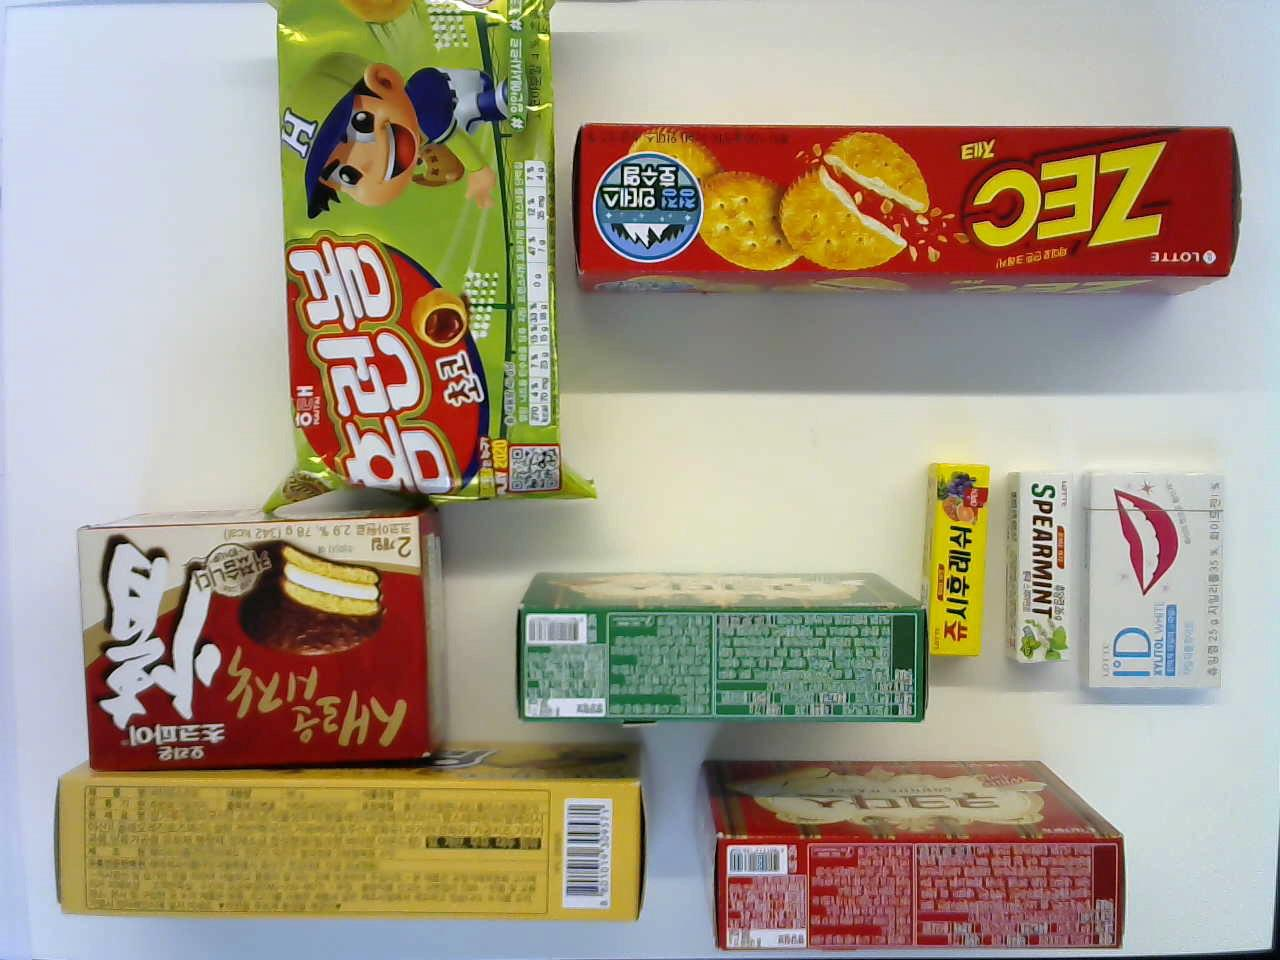ID_gum: (1069, 468, 1230, 699)
buttering: (61, 737, 649, 930)
chocopie: (73, 511, 445, 763)
couque_coffee: (61, 737, 649, 930), (510, 566, 928, 734)
couque_white: (692, 761, 1132, 948)
homerunball: (269, 0, 561, 503)
juicyfresh: (918, 460, 999, 682)
spearmint: (999, 460, 1078, 675)
zec: (571, 127, 1250, 290)
